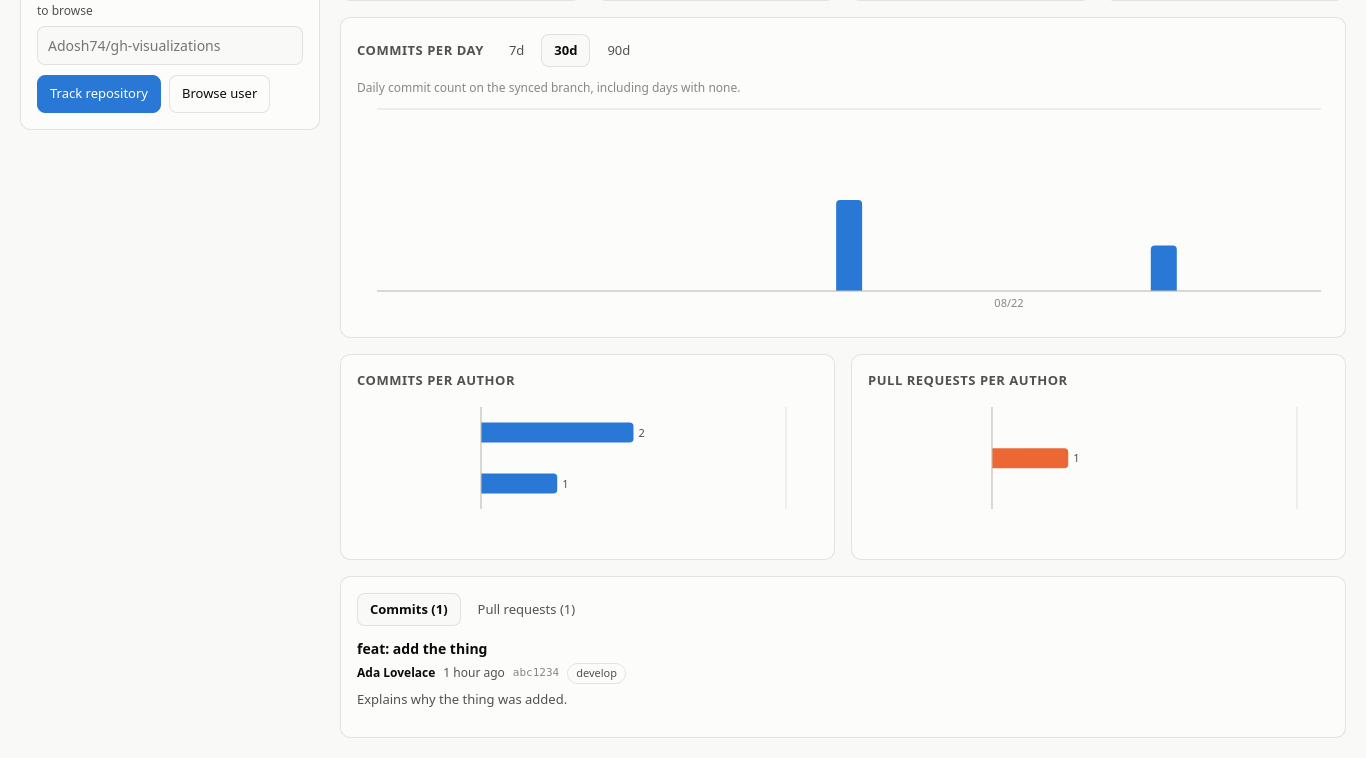
Test: app › swaps the feed between commits and pull requests
The image size is (1366, 758).
(page scrolled)
Expected: the link "feat: add the thing" is shown, [357, 639, 488, 658]
Click the tab "Pull requests (1)". click: (526, 609)
box: [465, 593, 588, 626]
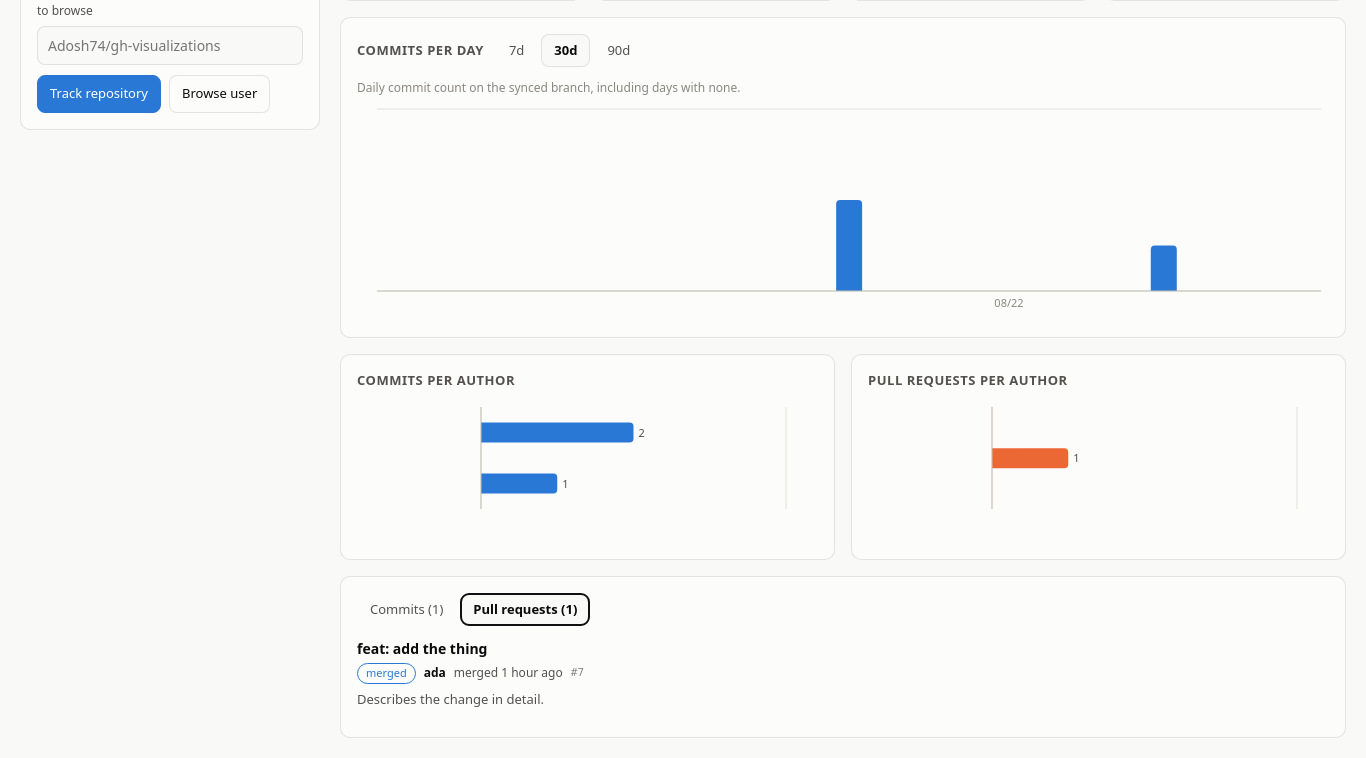
Expected: the text "Describes the change in detail." is shown, [357, 690, 544, 708]
